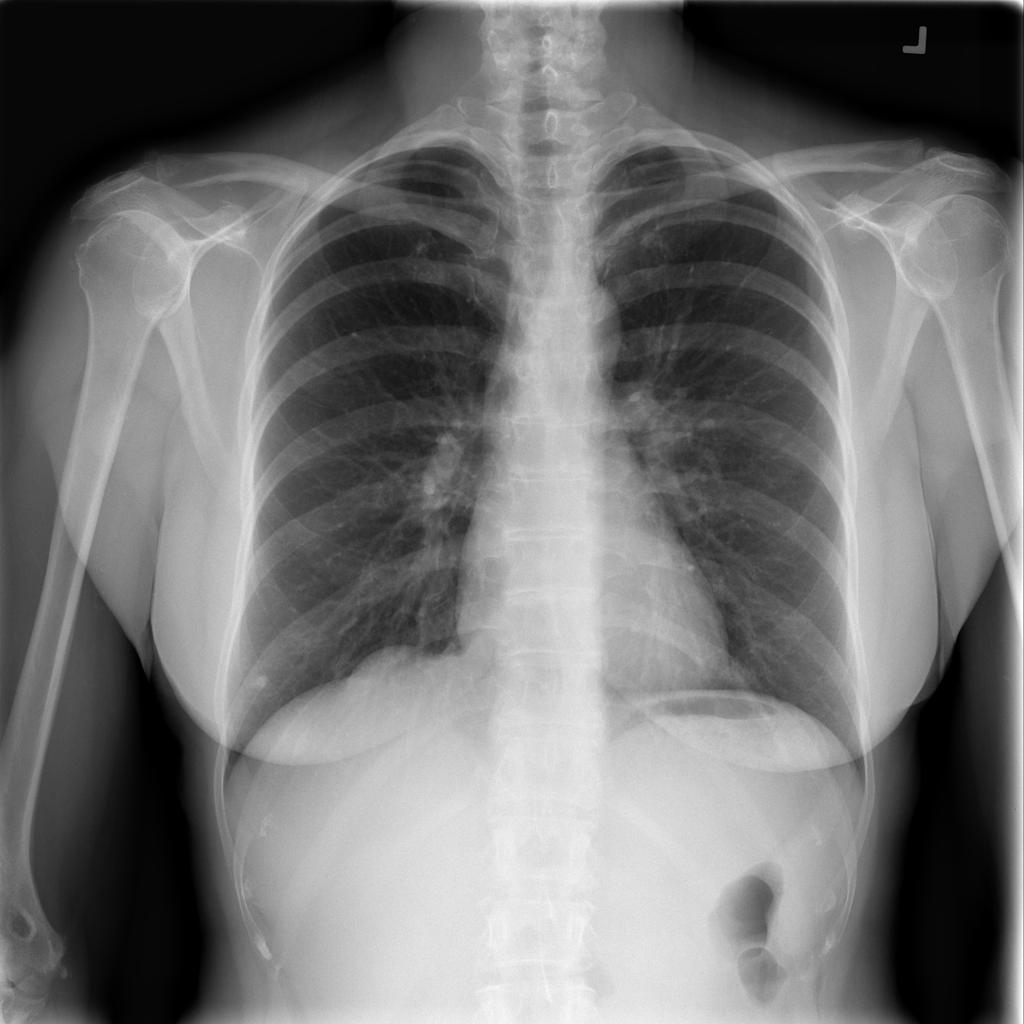nodule: (235, 656, 287, 704)
